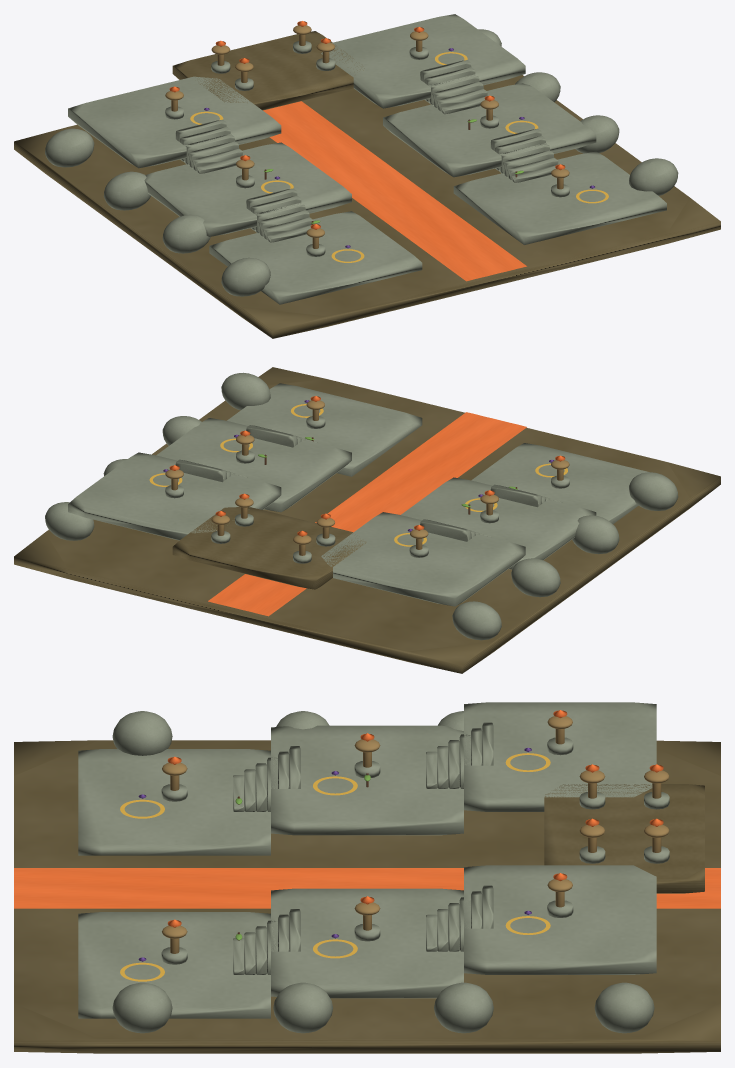
File: ember_restored.glb
3 views of the same model, one above another, from view 1: azimuth 30°, elevation 25°; view 2: azimuth 150°, elevation 25°; view 3: azimuth 270°, elevation 25° (orthographic). The views are drawn at different scales.
Visible parts, largest first — view 1: ember_restored_StaticBatch; view 2: ember_restored_StaticBatch; view 3: ember_restored_StaticBatch.
Boxes of the visible parts, <box> form: ember_restored_StaticBatch: <box>14,14,720,338</box>; ember_restored_StaticBatch: <box>14,367,720,673</box>; ember_restored_StaticBatch: <box>14,702,720,1053</box>.
Bounding box in the file's own units: 22.18 × 3.88 × 22.
Materials: 1 (1 with a texture image).
